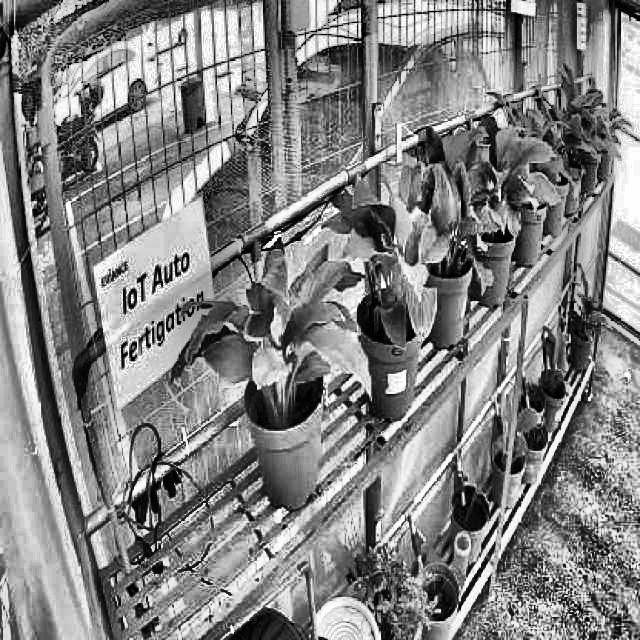plants: (164, 236, 372, 422), (319, 186, 441, 352), (376, 142, 490, 298), (442, 107, 560, 235)
